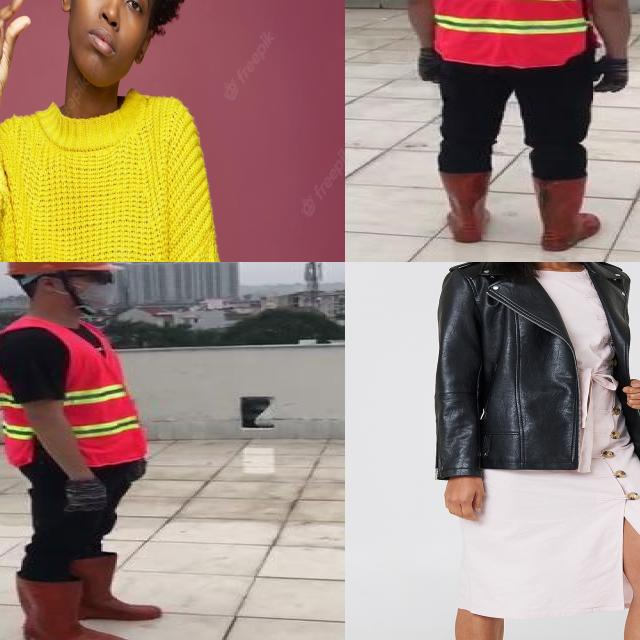No_Ear-Protection: (56, 0, 82, 21)
No_Glasses: (78, 0, 158, 21)
boots: (71, 542, 170, 620), (18, 576, 135, 640), (531, 173, 602, 253), (429, 172, 499, 243)
face_mask: (59, 272, 118, 309)
glasses: (83, 268, 119, 288)
hand_glove: (64, 476, 114, 513), (405, 47, 449, 83), (594, 59, 628, 97)
head_helmet: (3, 262, 115, 274)
person: (0, 262, 173, 640), (392, 0, 637, 258)
vest: (0, 316, 147, 464), (415, 0, 596, 66)
